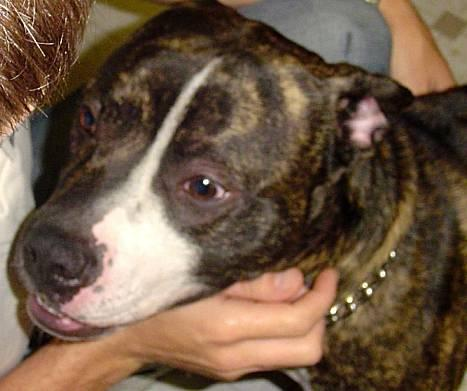dog: (9, 0, 466, 390)
